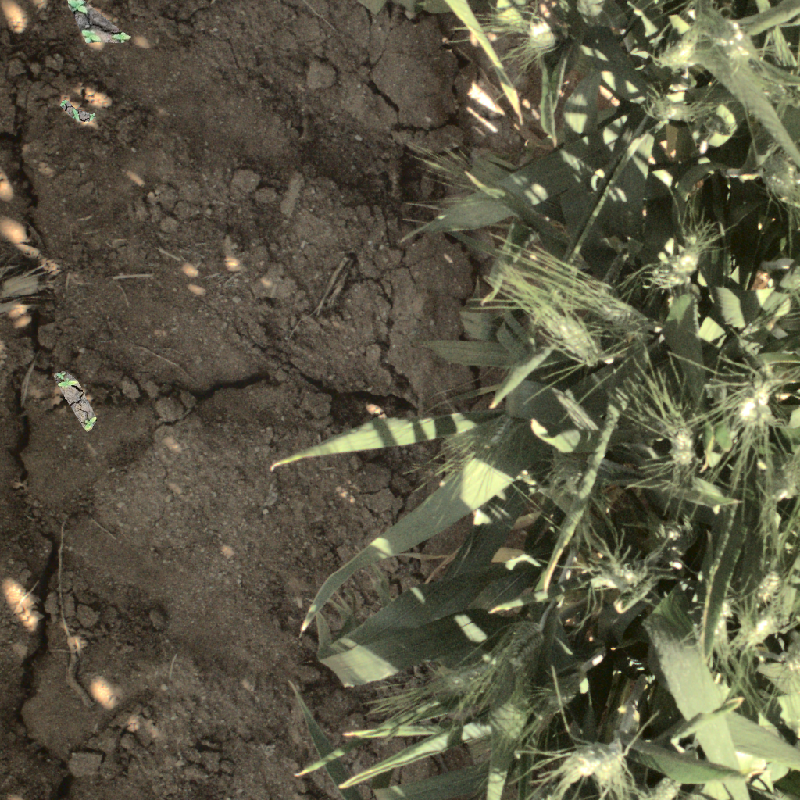spikelet: (526, 306, 606, 372), (576, 271, 648, 331), (649, 226, 712, 289), (565, 739, 626, 784), (731, 611, 792, 655), (488, 700, 557, 734), (441, 655, 497, 695), (732, 377, 774, 428), (588, 556, 643, 593), (650, 33, 707, 68), (665, 424, 698, 467), (657, 101, 712, 124), (753, 568, 782, 603)
weed: (52, 1, 136, 61), (44, 365, 107, 433), (57, 98, 99, 127)
